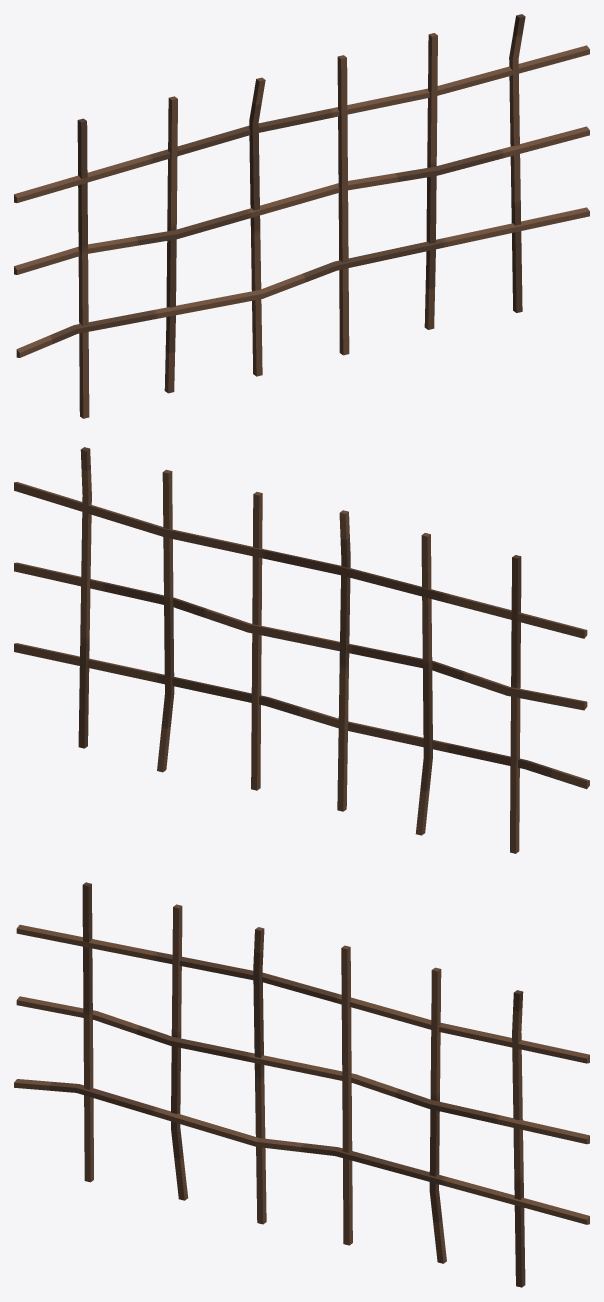
File: SM_Bld_ConcreteRebar_Wall_03.fbx
3 renders of one model, top to bottom at view 1: azimuth 30°, elevation 25°; view 2: azimuth 150°, elevation 25°; view 3: azimuth 330°, elevation 25°, orthographic.
Parts seen in each view (by area): view 1: SM_Bld_ConcreteRebar_Wall_03; view 2: SM_Bld_ConcreteRebar_Wall_03; view 3: SM_Bld_ConcreteRebar_Wall_03.
Part boxes in pixels (x1,y1,x2,y2): SM_Bld_ConcreteRebar_Wall_03: (14, 14, 589, 418); SM_Bld_ConcreteRebar_Wall_03: (14, 447, 589, 853); SM_Bld_ConcreteRebar_Wall_03: (14, 882, 589, 1287).
Size of the model in its own units: 234 by 116 by 8.95.
